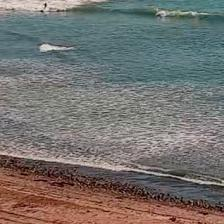surfer: (43, 2, 47, 11)
